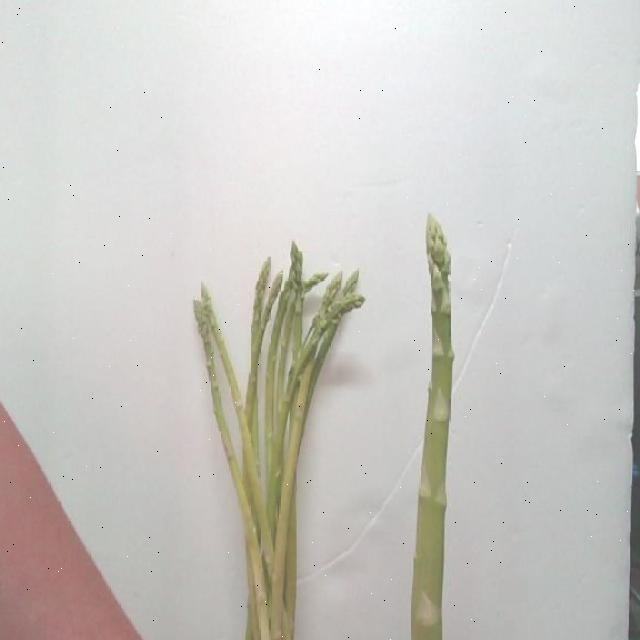aspargus: (411, 215, 455, 640)
